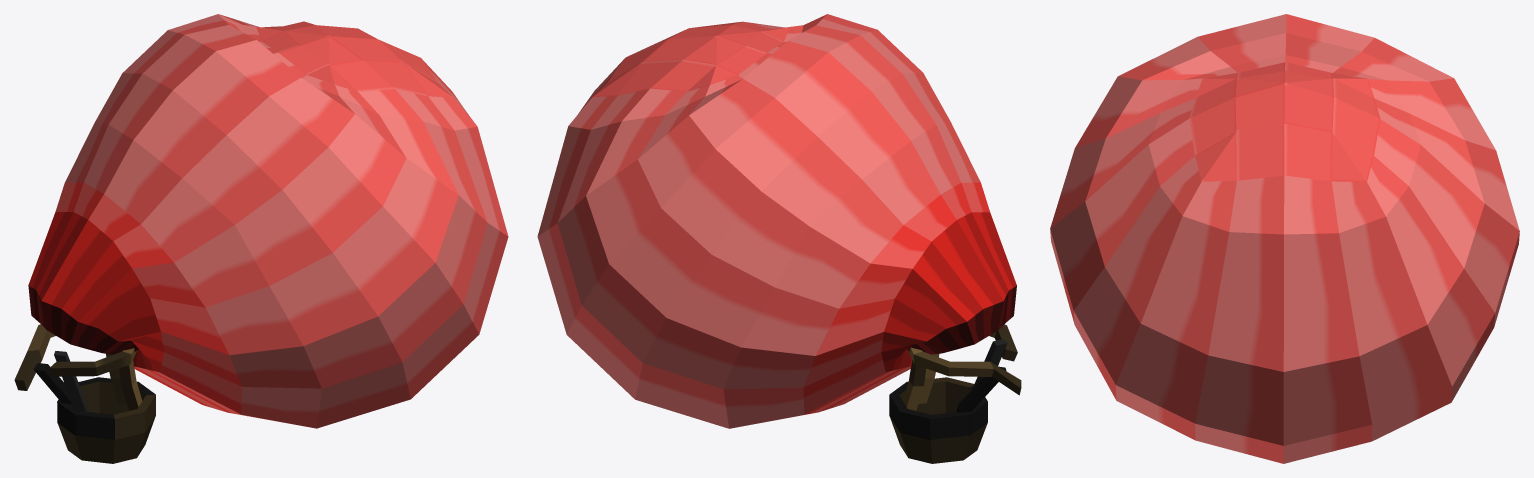
File: hot airballoon crash.fbx
3 renders of one model, left to right at view 1: azimuth 30°, elevation 25°; view 2: azimuth 150°, elevation 25°; view 3: azimuth 270°, elevation 25°, orthographic. The views are drawn at different scales.
Visible parts, largest first — view 1: hot-air-balloon_LOD0; view 2: hot-air-balloon_LOD0; view 3: hot-air-balloon_LOD0.
Part boxes in pixels (x1,y1,x2,y2): hot-air-balloon_LOD0: (14, 14, 508, 463); hot-air-balloon_LOD0: (537, 14, 1021, 463); hot-air-balloon_LOD0: (1050, 14, 1519, 463).
Size of what is drawn, in the model's own units: 8.69 by 6.91 by 7.55.
